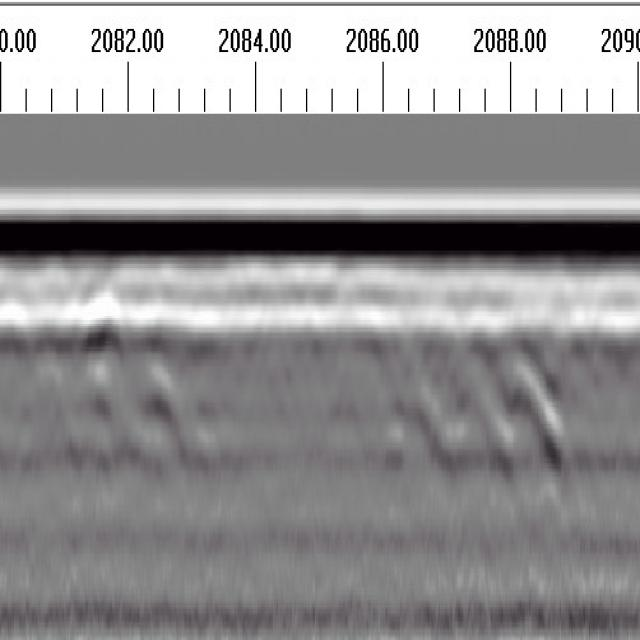loose: (368, 283, 570, 468), (48, 292, 213, 475)
